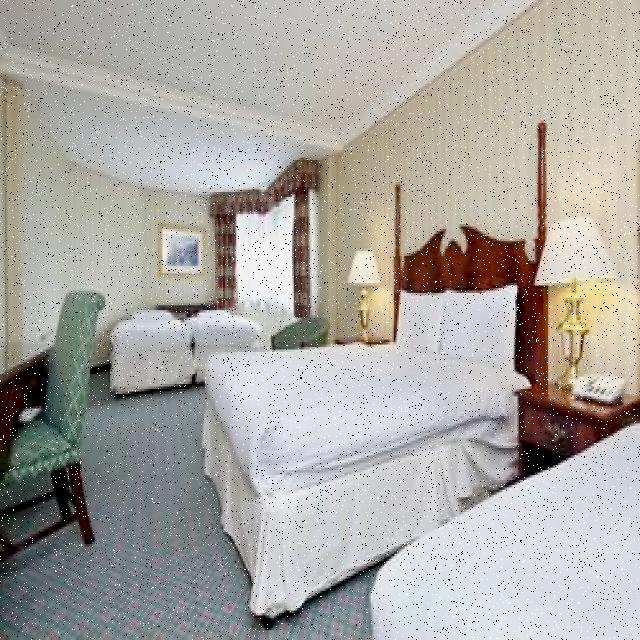bed: (188, 265, 528, 476), (118, 299, 255, 347)
